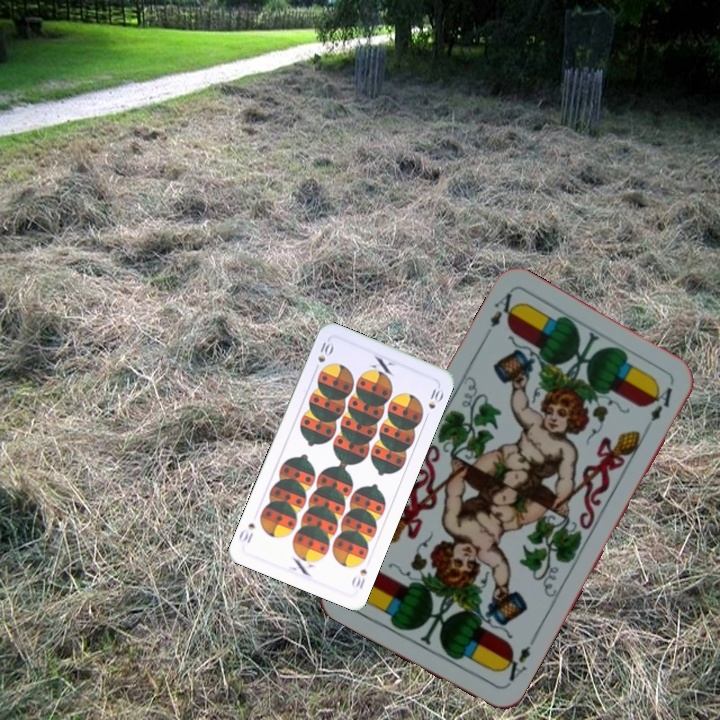EA: (497, 634, 539, 687), (486, 288, 521, 330)
S10: (310, 338, 336, 374), (347, 565, 370, 592)
